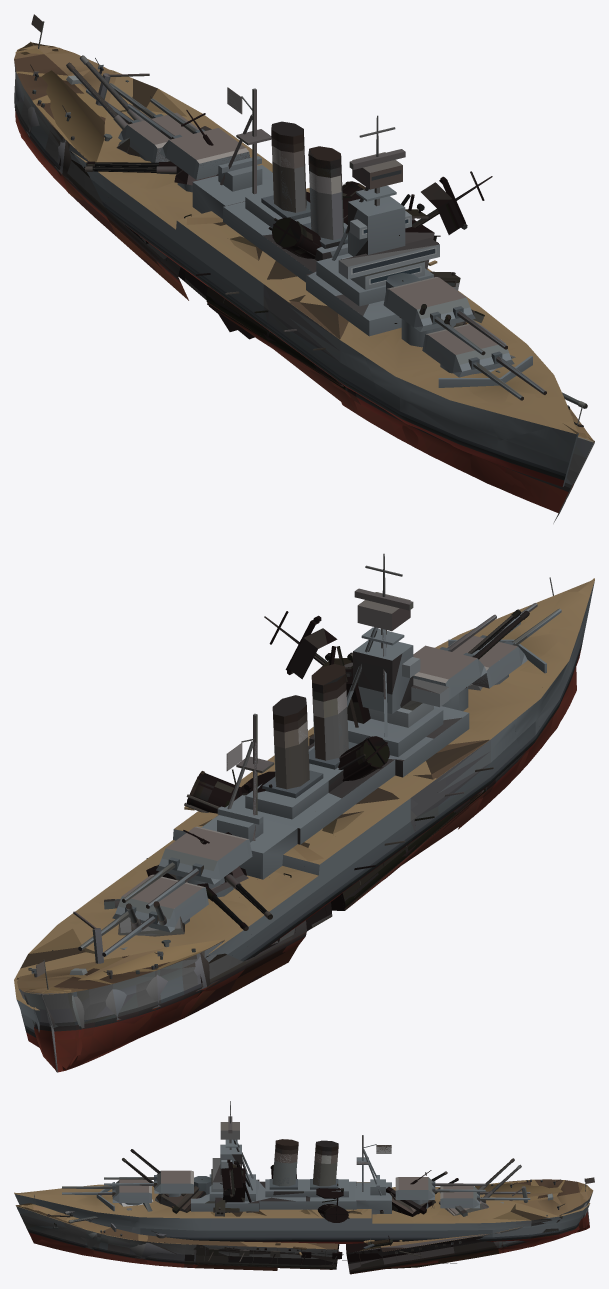
Rendered from ship_any_battleship_fractured.glb.
3 renders of one model, top to bottom at view 1: azimuth 30°, elevation 25°; view 2: azimuth 150°, elevation 25°; view 3: azimuth 270°, elevation 25°, orthographic. The views are drawn at different scales.
Parts seen in each view (by area): view 1: ship_any_battleship_DMG_mesh, ship_any_battleship_RUIN_LOD0_mesh, ship_any_battleship_RUIN_LOD2_mesh, ship_any_battleship_RUIN_LOD1_mesh, ship_any_battleship_FRAC_10_mesh, ship_any_battleship_FRAC_31_mesh, ship_any_battleship_FRAC_21_mesh, ship_any_battleship_DMG_funnel0_mesh, ship_any_battleship_DMG_funnel1_mesh, ship_any_battleship_FRAC_12_mesh, ship_any_battleship_FRAC_01_mesh, ship_any_battleship_FRAC_27_mesh (+24 smaller); view 2: ship_any_battleship_DMG_mesh, ship_any_battleship_RUIN_LOD0_mesh, ship_any_battleship_RUIN_LOD2_mesh, ship_any_battleship_RUIN_LOD1_mesh, ship_any_battleship_FRAC_13_mesh, ship_any_battleship_DMG_funnel0_mesh, ship_any_battleship_DMG_funnel1_mesh, ship_any_battleship_FRAC_18_mesh, ship_any_battleship_FRAC_36_mesh, ship_any_battleship_FRAC_10_mesh, ship_any_battleship_DMG_turret3_mesh, ship_any_battleship_DMG_foremast_mesh (+24 smaller); view 3: ship_any_battleship_DMG_mesh, ship_any_battleship_RUIN_LOD0_mesh, ship_any_battleship_RUIN_LOD1_mesh, ship_any_battleship_RUIN_LOD2_mesh, ship_any_battleship_FRAC_30_mesh, ship_any_battleship_FRAC_25_mesh, ship_any_battleship_DMG_funnel0_mesh, ship_any_battleship_DMG_funnel1_mesh, ship_any_battleship_FRAC_26_mesh, ship_any_battleship_FRAC_10_mesh, ship_any_battleship_FRAC_37_mesh, ship_any_battleship_FRAC_13_mesh (+26 smaller).
Boxes of the visible parts, bbox=[...] form: ship_any_battleship_DMG_mesh: bbox=[71, 71, 578, 486]; ship_any_battleship_RUIN_LOD0_mesh: bbox=[14, 14, 594, 515]; ship_any_battleship_RUIN_LOD2_mesh: bbox=[15, 42, 594, 504]; ship_any_battleship_RUIN_LOD1_mesh: bbox=[15, 47, 594, 523]; ship_any_battleship_FRAC_10_mesh: bbox=[407, 352, 560, 463]; ship_any_battleship_FRAC_31_mesh: bbox=[335, 232, 439, 331]; ship_any_battleship_FRAC_21_mesh: bbox=[495, 421, 578, 481]; ship_any_battleship_DMG_funnel0_mesh: bbox=[308, 146, 343, 239]; ship_any_battleship_DMG_funnel1_mesh: bbox=[271, 121, 306, 212]; ship_any_battleship_FRAC_12_mesh: bbox=[365, 319, 533, 425]; ship_any_battleship_FRAC_01_mesh: bbox=[348, 200, 411, 255]; ship_any_battleship_FRAC_27_mesh: bbox=[291, 301, 392, 408]; ship_any_battleship_DMG_mesh: bbox=[15, 584, 591, 1047]; ship_any_battleship_RUIN_LOD0_mesh: bbox=[17, 577, 573, 1072]; ship_any_battleship_RUIN_LOD2_mesh: bbox=[24, 684, 568, 1070]; ship_any_battleship_RUIN_LOD1_mesh: bbox=[22, 646, 576, 1072]; ship_any_battleship_FRAC_13_mesh: bbox=[347, 690, 434, 775]; ship_any_battleship_DMG_funnel0_mesh: bbox=[311, 664, 348, 760]; ship_any_battleship_DMG_funnel1_mesh: bbox=[272, 695, 309, 789]; ship_any_battleship_FRAC_18_mesh: bbox=[225, 791, 333, 844]; ship_any_battleship_FRAC_36_mesh: bbox=[308, 742, 433, 806]; ship_any_battleship_FRAC_10_mesh: bbox=[485, 620, 575, 738]; ship_any_battleship_DMG_turret3_mesh: bbox=[162, 826, 248, 870]; ship_any_battleship_DMG_foremast_mesh: bbox=[354, 553, 413, 648]; ship_any_battleship_DMG_mesh: bbox=[19, 1139, 589, 1243]; ship_any_battleship_RUIN_LOD0_mesh: bbox=[17, 1158, 594, 1270]; ship_any_battleship_RUIN_LOD1_mesh: bbox=[16, 1161, 592, 1272]; ship_any_battleship_RUIN_LOD2_mesh: bbox=[17, 1183, 592, 1274]; ship_any_battleship_FRAC_30_mesh: bbox=[479, 1218, 559, 1241]; ship_any_battleship_FRAC_25_mesh: bbox=[131, 1203, 212, 1240]; ship_any_battleship_DMG_funnel0_mesh: bbox=[272, 1139, 298, 1186]; ship_any_battleship_DMG_funnel1_mesh: bbox=[313, 1140, 338, 1186]; ship_any_battleship_FRAC_26_mesh: bbox=[239, 1201, 312, 1242]; ship_any_battleship_FRAC_10_mesh: bbox=[73, 1186, 132, 1232]; ship_any_battleship_FRAC_37_mesh: bbox=[362, 1200, 417, 1241]; ship_any_battleship_FRAC_13_mesh: bbox=[226, 1163, 273, 1209].
Bounding box in the file's own units: 43.94 × 58.12 × 188.
